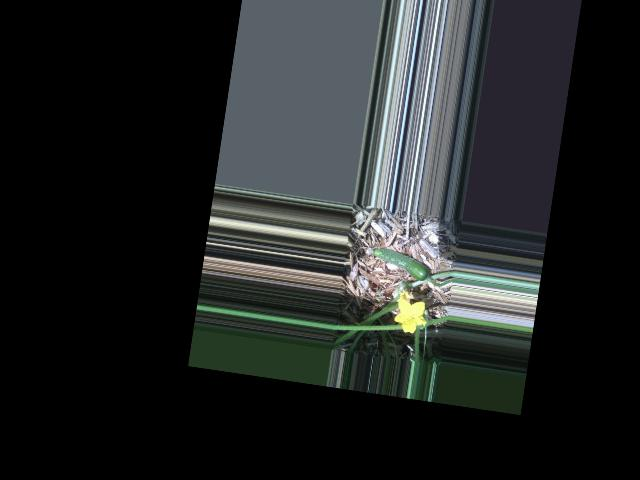cucumber: (364, 245, 432, 282)
